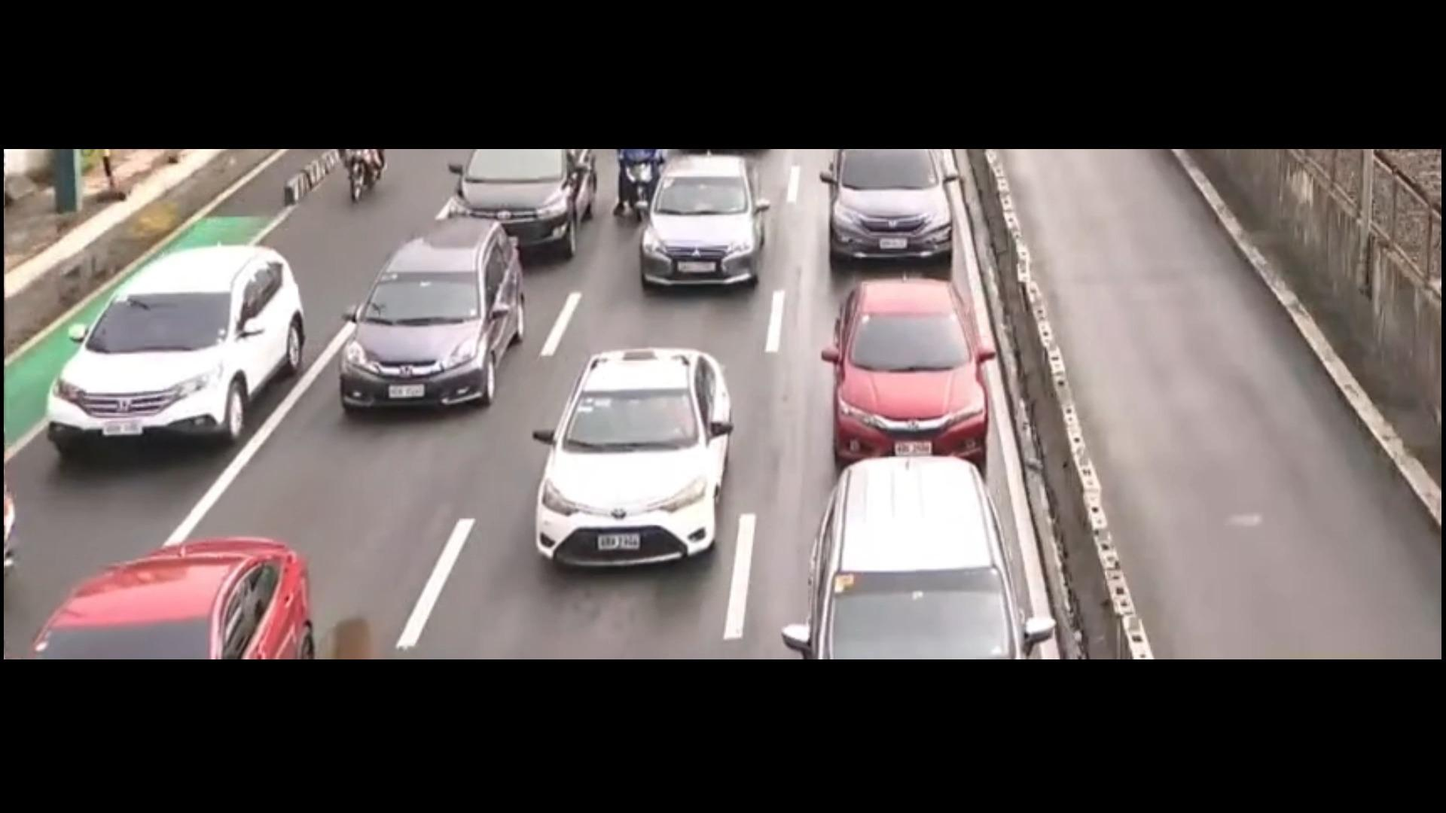Motorcycle: (610, 155, 671, 222)
SUV: (28, 226, 320, 473), (314, 219, 543, 429), (801, 465, 1043, 651), (817, 269, 1015, 446), (799, 151, 972, 277)
Sedan: (509, 333, 752, 581), (40, 524, 317, 664), (619, 157, 770, 288)
